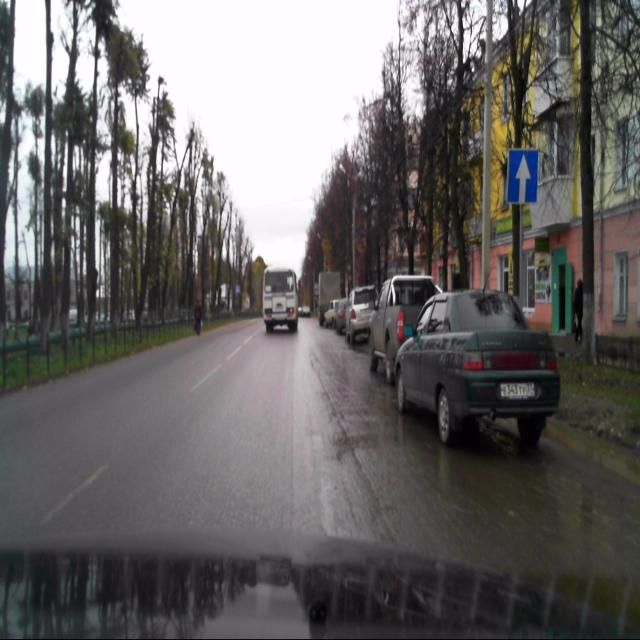road sign: (507, 148, 538, 204)
